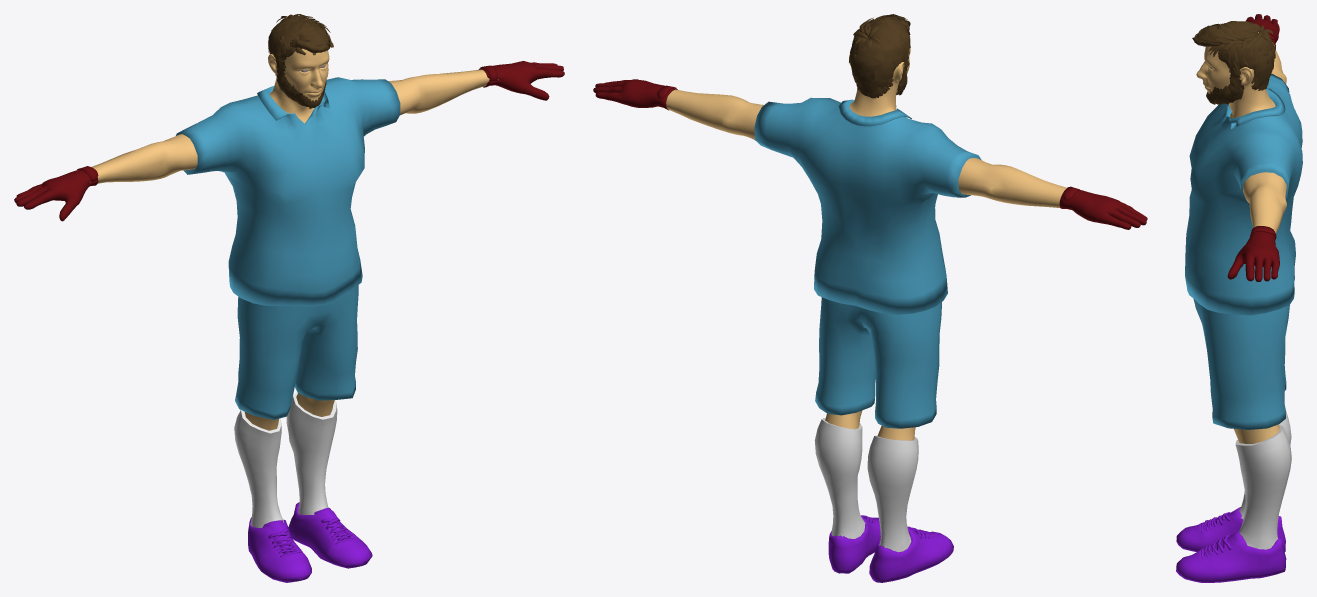
File: football-goalkeeper.gltf
3 views of the same model, side by side, from view 1: azimuth 30°, elevation 25°; view 2: azimuth 150°, elevation 25°; view 3: azimuth 270°, elevation 25° (orthographic).
Visible parts, largest first — view 1: Tops, Bottoms, Body, Socks, Shoes, Gloves, Hair; view 2: Tops, Bottoms, Socks, Body, Shoes, Hair, Gloves; view 3: Tops, Bottoms, Shoes, Socks, Body, Hair, Gloves, Beards.
Part boxes in pixels (x1=…): Tops: x1=176, y1=77, x2=400, y2=306; Bottoms: x1=235, y1=285, x2=358, y2=419; Body: x1=90, y1=19, x2=498, y2=430; Socks: x1=234, y1=392, x2=337, y2=527; Shoes: x1=248, y1=502, x2=372, y2=582; Gloves: x1=14, y1=61, x2=564, y2=221; Hair: x1=268, y1=14, x2=333, y2=75; Tops: x1=754, y1=97, x2=981, y2=314; Bottoms: x1=815, y1=297, x2=941, y2=428; Socks: x1=814, y1=418, x2=918, y2=552; Body: x1=666, y1=48, x2=1066, y2=440; Shoes: x1=828, y1=515, x2=953, y2=582; Hair: x1=849, y1=14, x2=910, y2=98; Gloves: x1=593, y1=79, x2=1147, y2=229; Tops: x1=1185, y1=73, x2=1302, y2=315; Bottoms: x1=1193, y1=298, x2=1289, y2=429; Shoes: x1=1176, y1=507, x2=1286, y2=582; Socks: x1=1235, y1=411, x2=1291, y2=549; Body: x1=1196, y1=32, x2=1286, y2=443; Hair: x1=1192, y1=21, x2=1275, y2=90; Gloves: x1=1227, y1=14, x2=1279, y2=281; Beards: x1=1206, y1=75, x2=1244, y2=104.
Size of the model in its own units: 1.94 by 1.82 by 0.3891.
